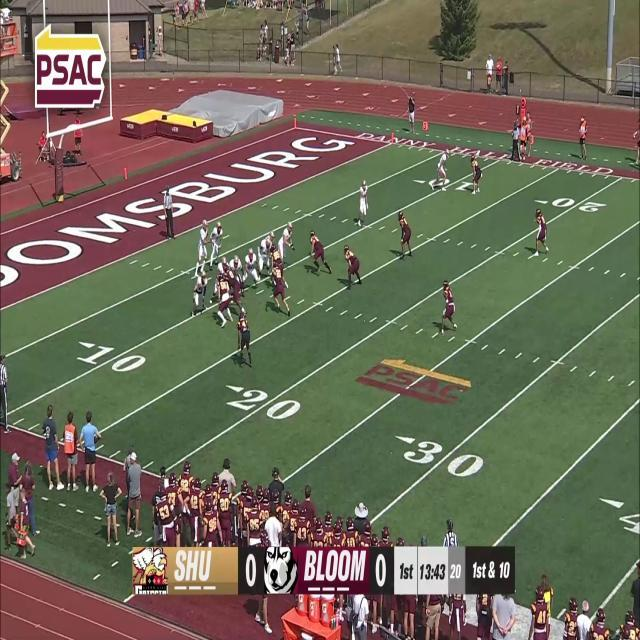football: (208, 236, 212, 244)
